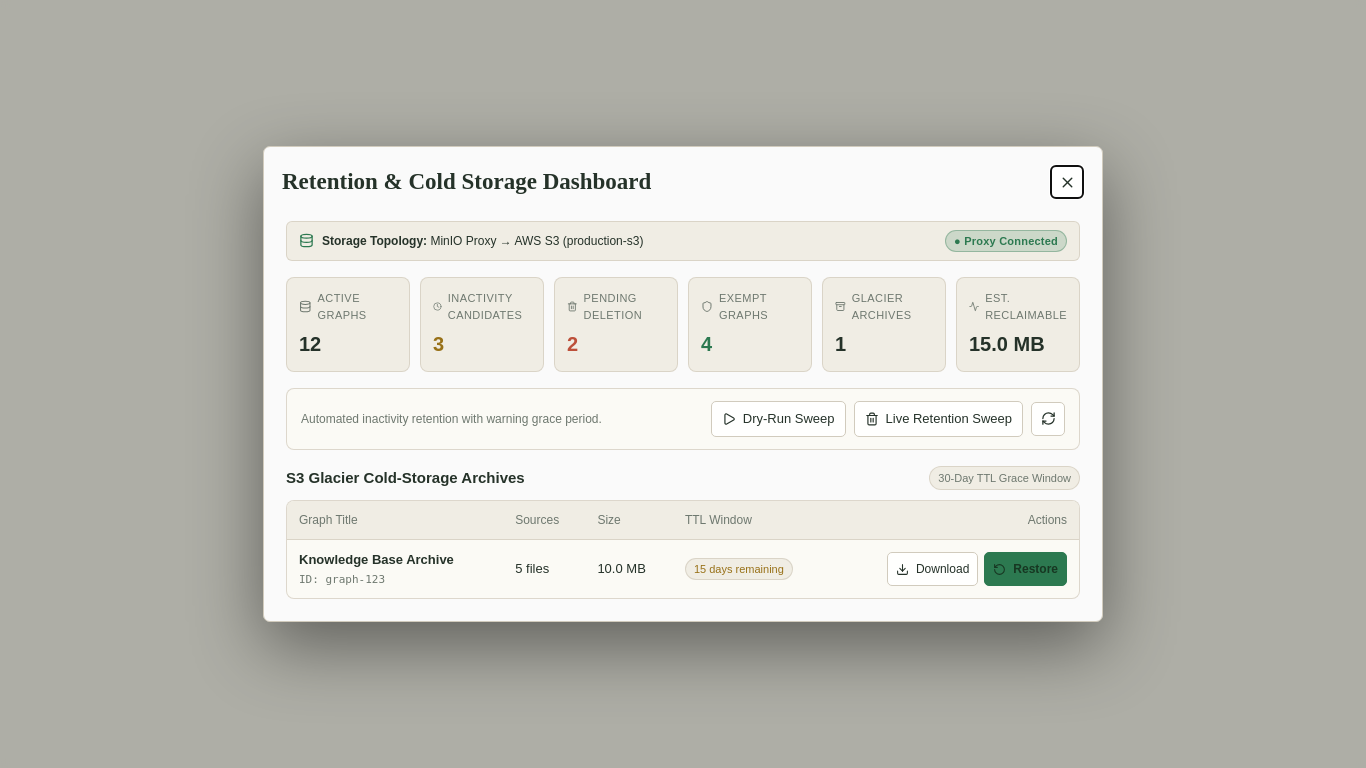
Test: RetentionDashboardDialog › executes dry-run retention sweep simulation and displays summary alert
The image size is (1366, 768).
expect the text "Knowledge Base Archive" is shown: met, box [299, 552, 454, 567]
Click the button "Dry-Run Sweep".
click(778, 419)  # box [711, 401, 846, 436]
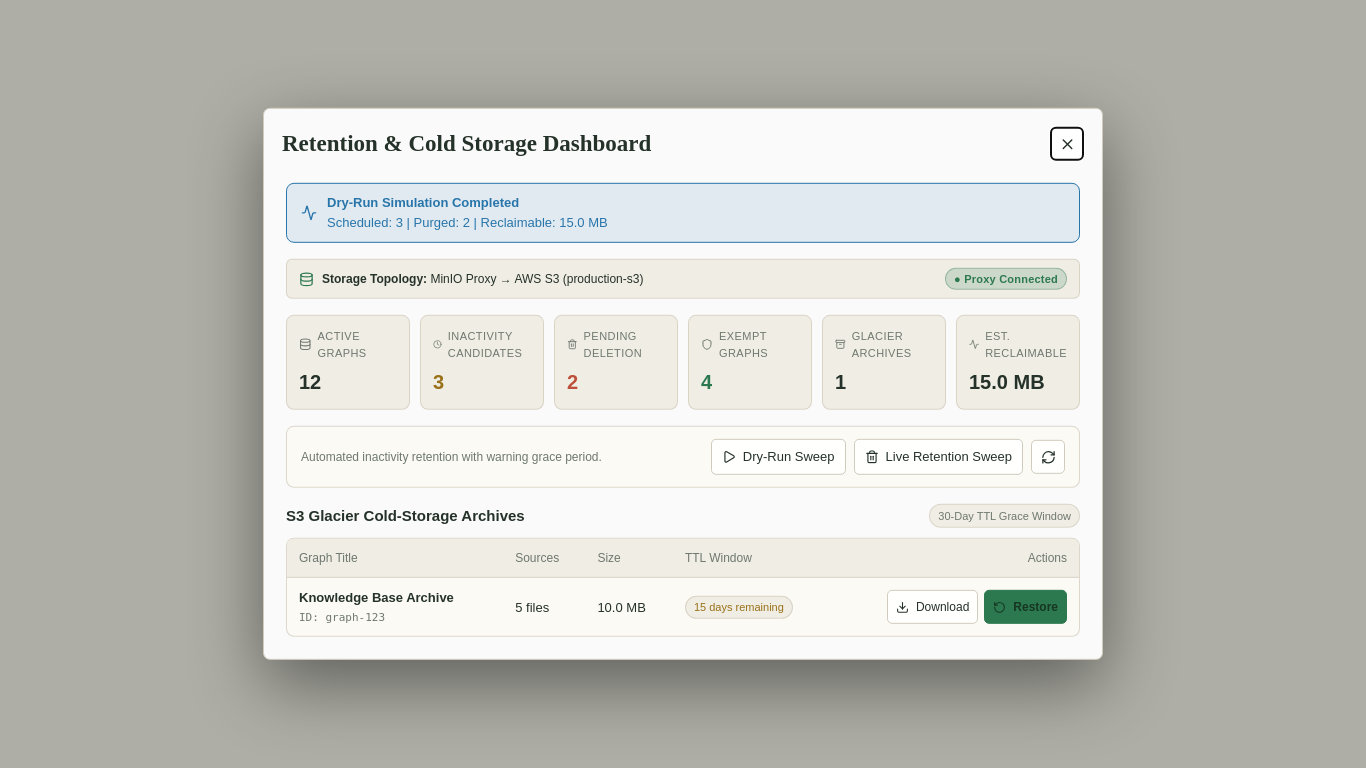
expect the text "Dry-Run Simulation Completed" is shown: met, box [327, 194, 519, 209]
expect the text "Scheduled: 3 | Purged: 2 | Reclaimable: 15.0 MB" is shown: met, box [327, 214, 608, 232]
